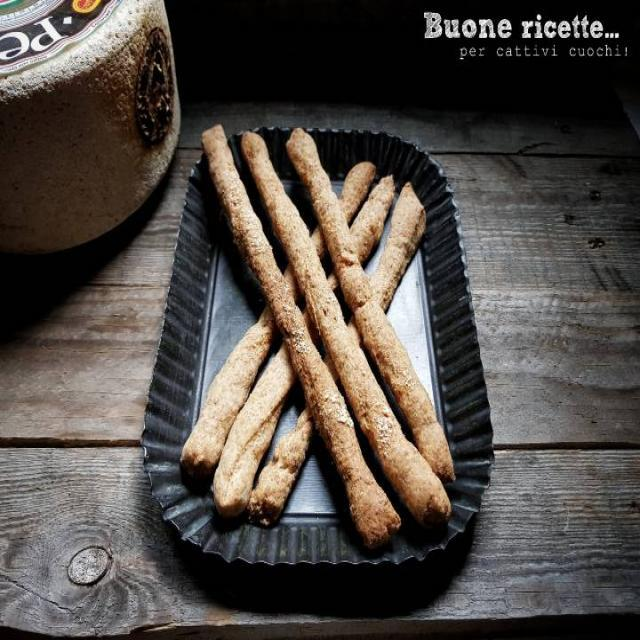Grissini: (178, 123, 457, 529)
